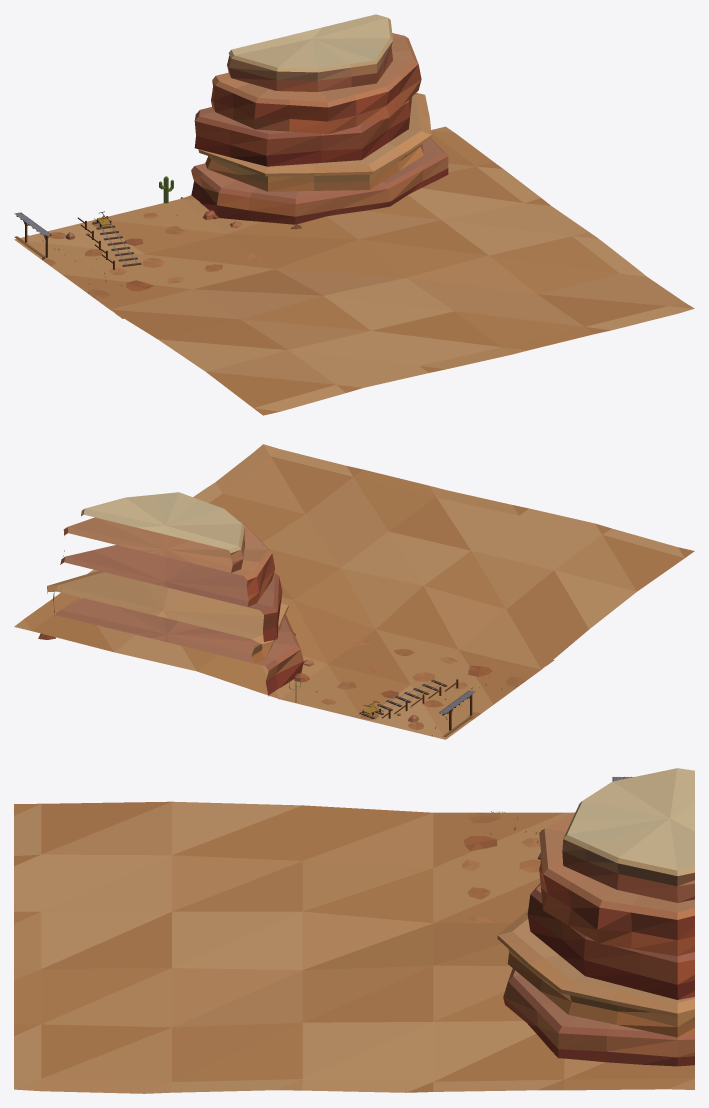
3 renders of one model, top to bottom at view 1: azimuth 30°, elevation 25°; view 2: azimuth 150°, elevation 25°; view 3: azimuth 270°, elevation 25°, orthographic. The views are drawn at different scales.
Visible parts, largest first — view 1: baked; view 2: baked; view 3: baked.
Part boxes in pixels (left/top/right/bottom): baked: left=14, top=14, right=694, bottom=415; baked: left=14, top=444, right=694, bottom=739; baked: left=14, top=768, right=694, bottom=1093.
Size of the model in its own units: 62.5 by 18.99 by 62.5.
